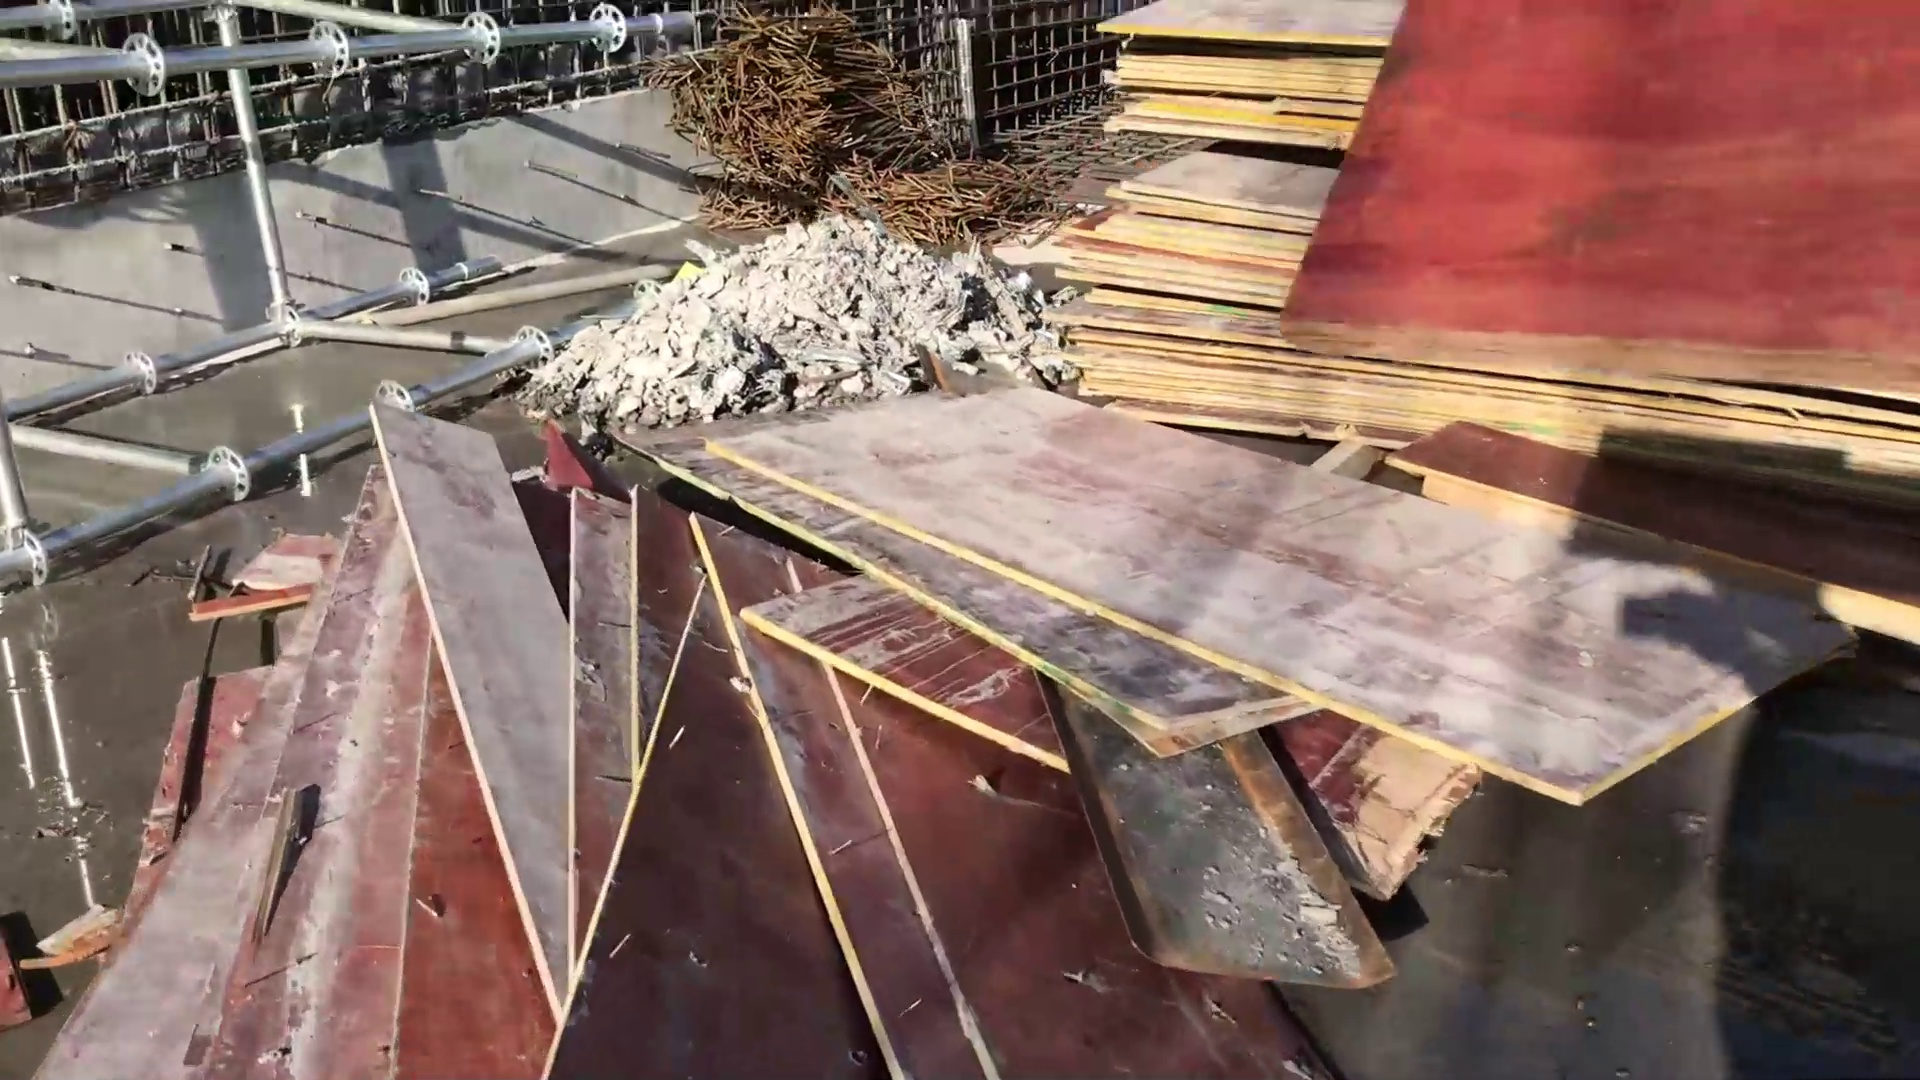board: (998, 7, 1911, 520)
